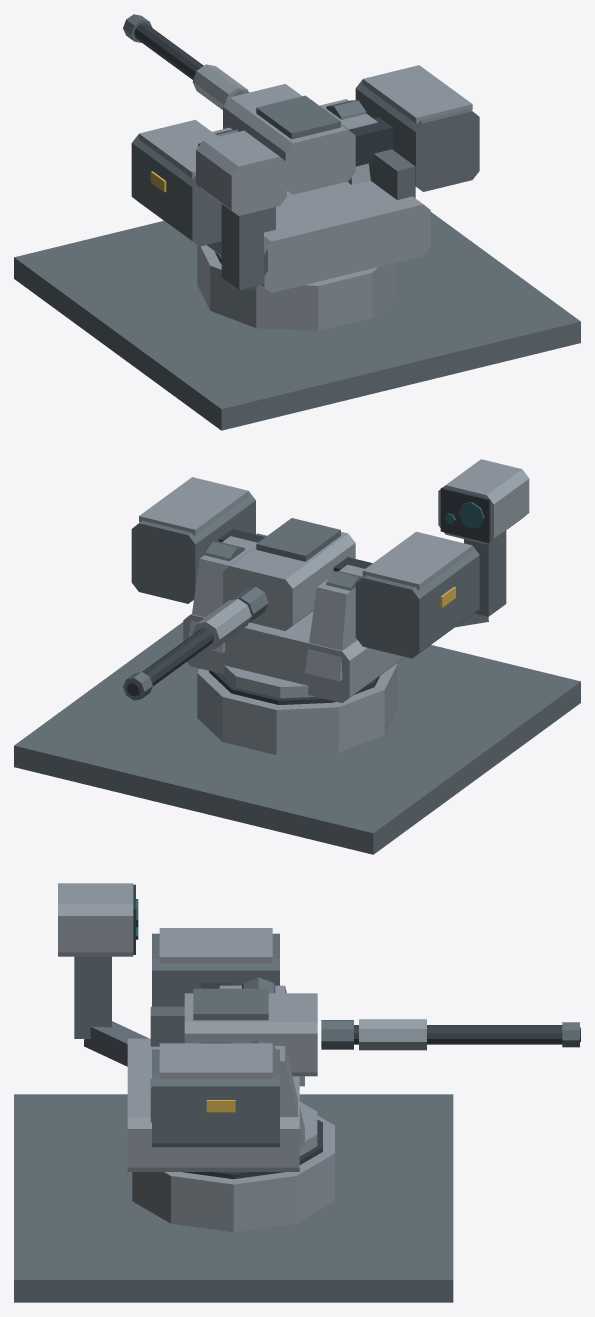
File: MOD_Autocannon_U1.fbx
The picture shows the model from 3 angles, top to bottom: view 1: azimuth 30°, elevation 25°; view 2: azimuth 150°, elevation 25°; view 3: azimuth 270°, elevation 25°; orthographic projection. The views are drawn at different scales.
Parts seen in each view (by area): view 1: AC8_FixedDeckPlate, ElevationPivot_Visual_Deck_Grey, TurretPivot_Visual_Naval_Blue_Grey, ElevationPivot_Visual_Naval_Blue_Grey, AC8_FixedPedestal, TurretPivot_Visual_Deck_Grey, AC8_EoIrHead, ElevationPivot_Visual_Gunmetal; view 2: AC8_FixedDeckPlate, ElevationPivot_Visual_Deck_Grey, TurretPivot_Visual_Naval_Blue_Grey, ElevationPivot_Visual_Naval_Blue_Grey, AC8_FixedPedestal, AC8_EoIrHead, TurretPivot_Visual_Deck_Grey, ElevationPivot_Visual_Gunmetal, AC8_OpticalFrontPanel, AC8_FixedBearingSeat, OpticsPivot_Visual_Sensor_Glass; view 3: AC8_FixedDeckPlate, ElevationPivot_Visual_Deck_Grey, ElevationPivot_Visual_Naval_Blue_Grey, AC8_FixedPedestal, TurretPivot_Visual_Naval_Blue_Grey, TurretPivot_Visual_Deck_Grey, AC8_EoIrHead, ElevationPivot_Visual_Gunmetal, AC8_FixedBearingSeat.
Part boxes in pixels (box(x1,y1,x2,y2)): AC8_FixedDeckPlate: box(14, 212, 580, 430); ElevationPivot_Visual_Deck_Grey: box(123, 14, 479, 246); TurretPivot_Visual_Naval_Blue_Grey: box(206, 99, 430, 292); ElevationPivot_Visual_Naval_Blue_Grey: box(139, 64, 472, 194); AC8_FixedPedestal: box(197, 245, 397, 330); TurretPivot_Visual_Deck_Grey: box(215, 100, 415, 291); AC8_EoIrHead: box(196, 130, 286, 215); ElevationPivot_Visual_Gunmetal: box(134, 23, 392, 166); AC8_FixedDeckPlate: box(14, 622, 580, 854); ElevationPivot_Visual_Deck_Grey: box(123, 491, 479, 700); TurretPivot_Visual_Naval_Blue_Grey: box(183, 536, 404, 703); ElevationPivot_Visual_Naval_Blue_Grey: box(139, 477, 472, 650); AC8_FixedPedestal: box(197, 663, 397, 755); AC8_EoIrHead: box(438, 459, 529, 544); TurretPivot_Visual_Deck_Grey: box(205, 530, 506, 627); ElevationPivot_Visual_Gunmetal: box(126, 529, 372, 697); AC8_OpticalFrontPanel: box(440, 487, 490, 542); AC8_FixedBearingSeat: box(209, 671, 379, 704); OpticsPivot_Visual_Sensor_Glass: box(445, 502, 484, 528); AC8_FixedDeckPlate: box(14, 1094, 453, 1302); ElevationPivot_Visual_Deck_Grey: box(152, 933, 579, 1147); ElevationPivot_Visual_Naval_Blue_Grey: box(159, 928, 426, 1078); AC8_FixedPedestal: box(132, 1115, 334, 1232); TurretPivot_Visual_Naval_Blue_Grey: box(127, 985, 317, 1171); TurretPivot_Visual_Deck_Grey: box(74, 956, 275, 1122); AC8_EoIrHead: box(58, 883, 133, 956); ElevationPivot_Visual_Gunmetal: box(201, 983, 580, 1044); AC8_FixedBearingSeat: box(182, 1119, 322, 1179).
Bounding box in the file's own units: 175 × 112 × 226.
